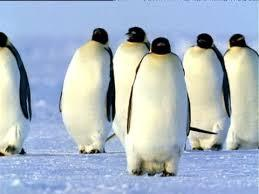emporer: (121, 22, 192, 188), (55, 16, 119, 161), (178, 29, 228, 165)
